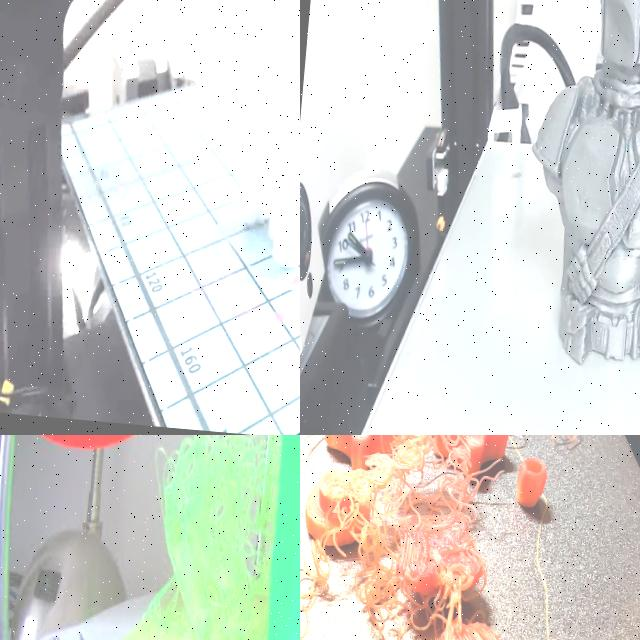spaghetti: (156, 435, 276, 640), (332, 435, 448, 640), (440, 435, 513, 521), (300, 527, 333, 610), (520, 435, 591, 451)
